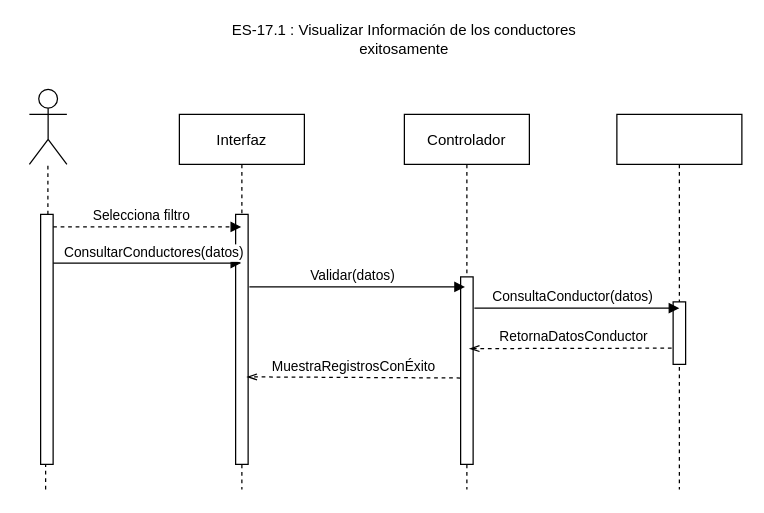
Image size: 764x513. Some labels were removed from this diagram. Here are the shapes that lost their labels. From the top down, the centre of each, then its label:
point (47, 126): Gerente
point (679, 301): BBDD
